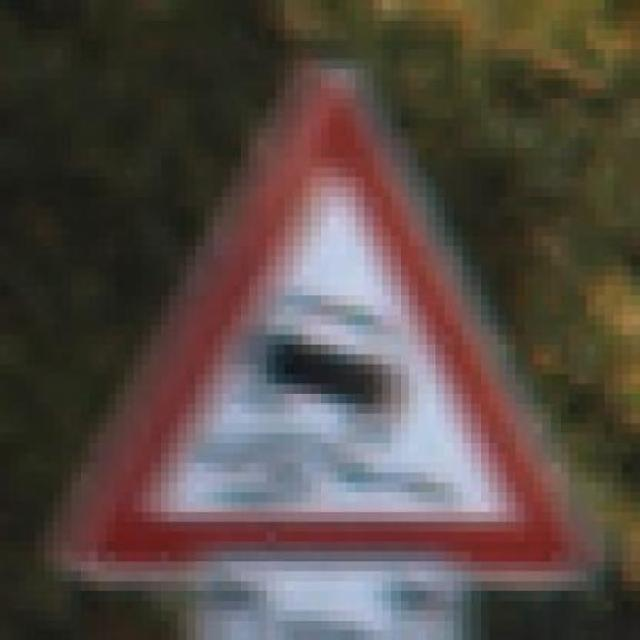Slippery Road Ahead: (36, 69, 604, 611)
